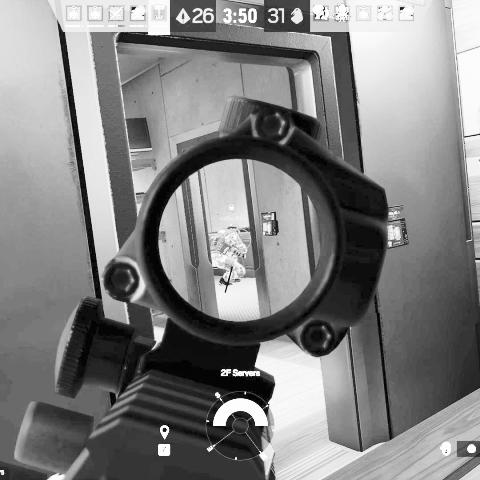Character: (207, 221, 249, 286)
Friend_label: (220, 202, 244, 220)
Head: (228, 222, 241, 233)
